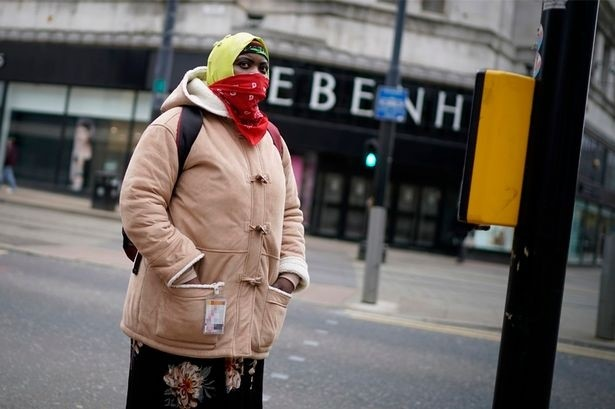face_with_mask: (213, 30, 271, 113)
